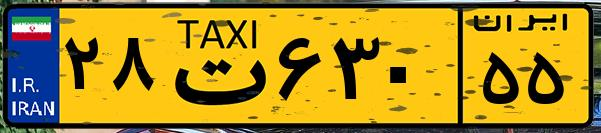0: (385, 28, 445, 110)
2: (57, 26, 110, 100)
3: (330, 28, 385, 110)
5: (475, 38, 525, 113), (525, 38, 570, 115)
6: (270, 28, 330, 110)
8: (110, 28, 158, 98)
ت: (158, 12, 270, 120)
